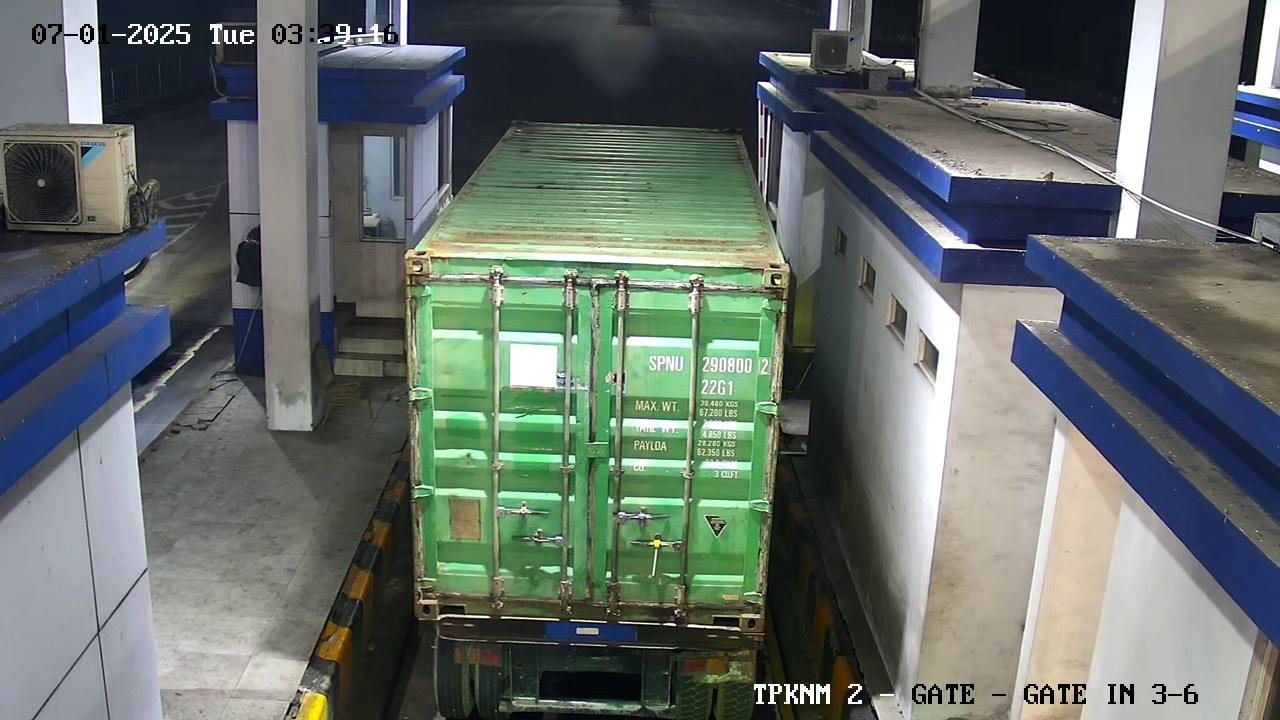Container_ID: (640, 342, 783, 380)
